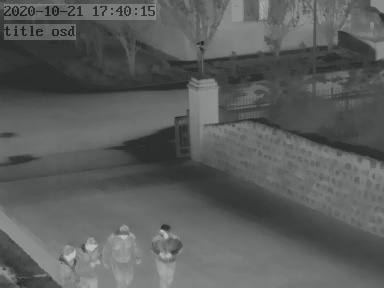person: (102, 225, 140, 288), (153, 217, 180, 288), (56, 243, 86, 288), (80, 237, 105, 288)
